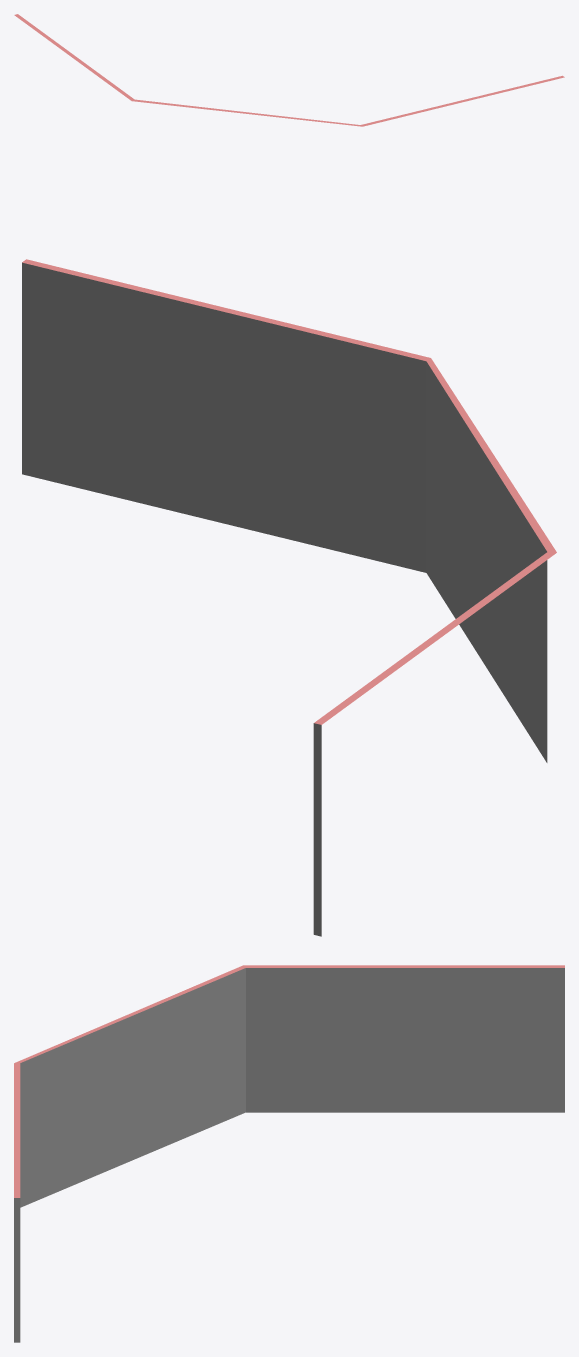
File: wall_deco_05.gltf
3 views of the same model, one above another, from view 1: azimuth 30°, elevation 25°; view 2: azimuth 150°, elevation 25°; view 3: azimuth 270°, elevation 25° (orthographic). The views are drawn at different scales.
Parts seen in each view (by area): view 1: wall_deco_05; view 2: wall_deco_05; view 3: wall_deco_05.
Part boxes in pixels (<box>): wall_deco_05: <box>14,14,564,126</box>; wall_deco_05: <box>22,259,556,936</box>; wall_deco_05: <box>14,965,564,1342</box>.
Bounding box in the file's own units: 4.42 × 1.28 × 4.42.
